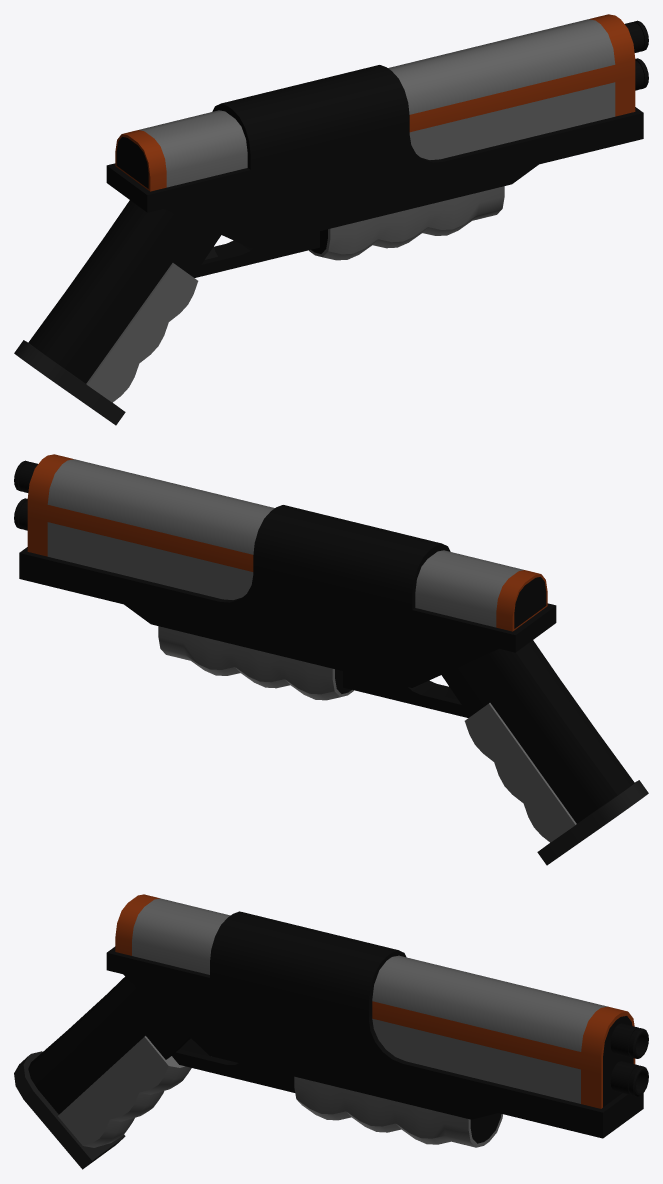
Rendered from Pistol_2.obj.
3 views of the same model, one above another, from view 1: azimuth 30°, elevation 25°; view 2: azimuth 150°, elevation 25°; view 3: azimuth 330°, elevation 25° (orthographic).
Visible parts, largest first — view 1: Pistol_2_Cube.036; view 2: Pistol_2_Cube.036; view 3: Pistol_2_Cube.036.
Part boxes in pixels (x1,y1,x2,y2): Pistol_2_Cube.036: [14, 14, 648, 425]; Pistol_2_Cube.036: [14, 454, 648, 865]; Pistol_2_Cube.036: [14, 894, 648, 1169].
Bounding box in the file's own units: 0.9899 × 0.4161 × 0.1124.
